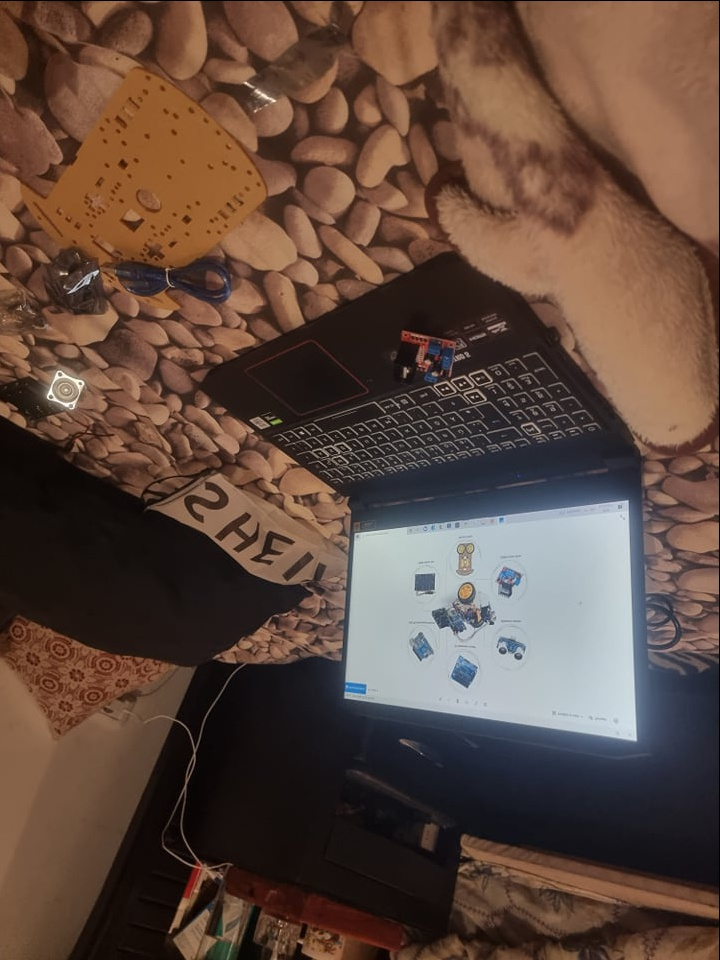5V EXPANSION: (451, 655, 479, 688)
BATTERY BOX: (1, 372, 56, 425), (414, 572, 436, 589)
MOTOR: (389, 329, 460, 391), (495, 565, 526, 597)
SENSOR: (496, 637, 529, 657)
UNO R3: (408, 630, 435, 661)
